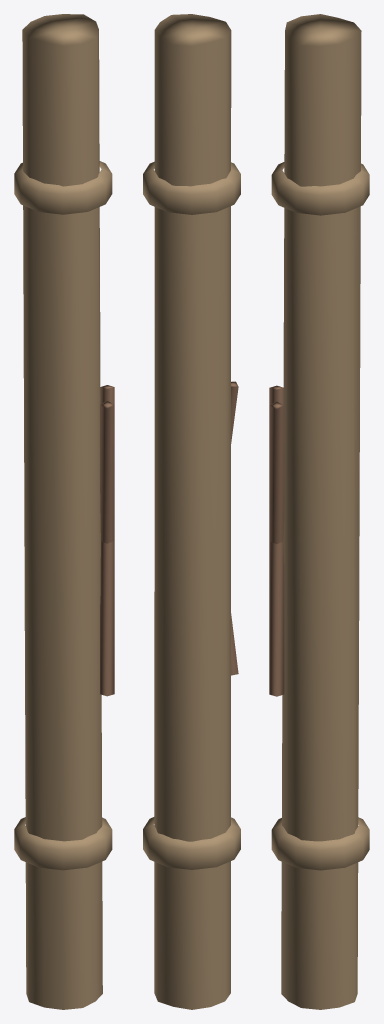
Rendered from exterior_basic.glb.
3 renders of one model, left to right at view 1: azimuth 90°, elevation 25°; view 2: azimuth 150°, elevation 25°; view 3: azimuth 270°, elevation 25°, orthographic.
Visible parts, largest first — view 1: exterior_basic; view 2: exterior_basic; view 3: exterior_basic.
Boxes of the visible parts, left/top/right/bottom form: exterior_basic: left=14, top=14, right=114, bottom=1009; exterior_basic: left=143, top=14, right=240, bottom=1009; exterior_basic: left=269, top=14, right=369, bottom=1009.
Size of the model in its own units: 0.0922 by 1 by 0.0945.
